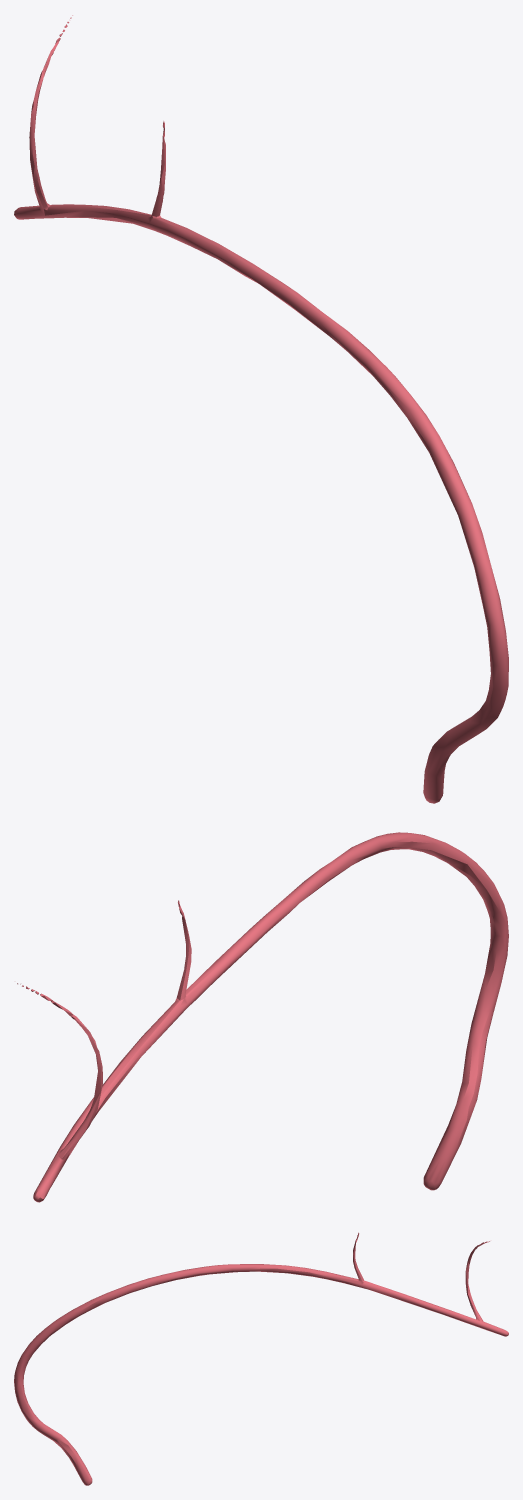
The model's file is fma50360_fj1699m.glb.
3 views of the same model, one above another, from view 1: azimuth 30°, elevation 25°; view 2: azimuth 150°, elevation 25°; view 3: azimuth 270°, elevation 25° (orthographic). The views are drawn at different scales.
Parts seen in each view (by area): view 1: FMA50360_FJ1699M; view 2: FMA50360_FJ1699M; view 3: FMA50360_FJ1699M.
Part boxes in pixels (box(x1,y1,x2,y2)): FMA50360_FJ1699M: box(14, 15, 508, 803); FMA50360_FJ1699M: box(17, 832, 508, 1202); FMA50360_FJ1699M: box(14, 1232, 508, 1485).
Bounding box in the file's own units: 0.00587 × 0.0417 × 0.0742.
